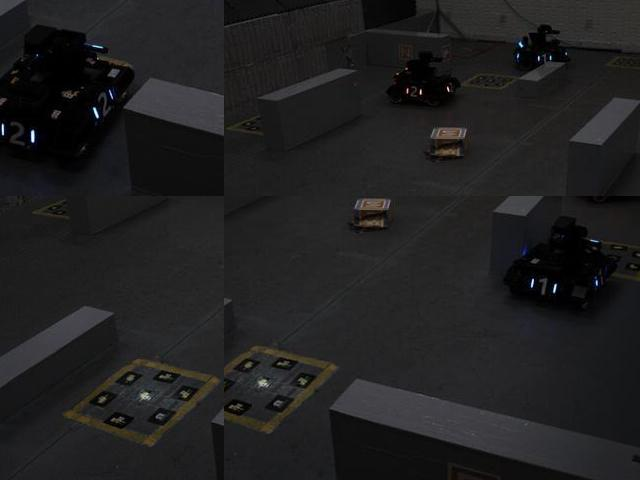armor: (0, 115, 39, 154), (527, 272, 560, 299), (403, 83, 425, 102), (535, 52, 556, 65), (441, 80, 457, 96)
